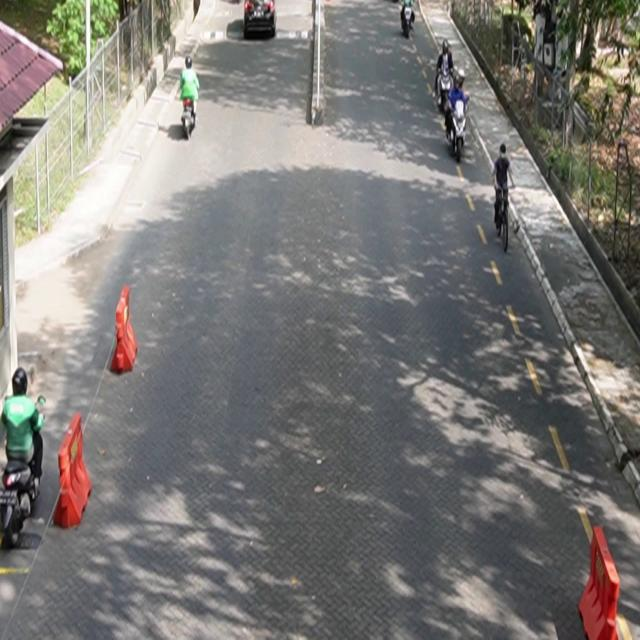car: (245, 1, 278, 40)
